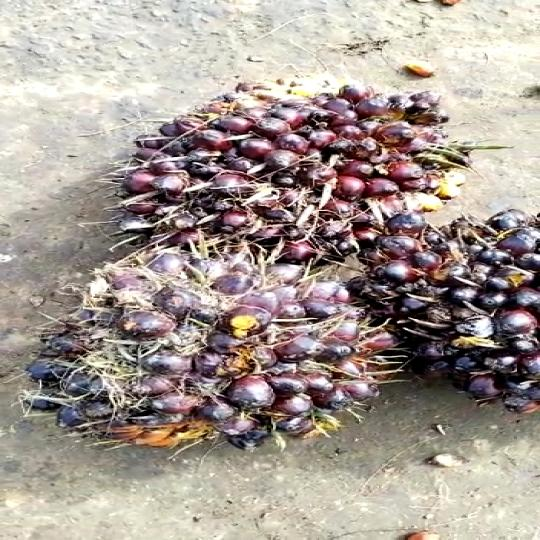kurang masak: (27, 236, 394, 470), (102, 78, 528, 259), (346, 206, 540, 414)
